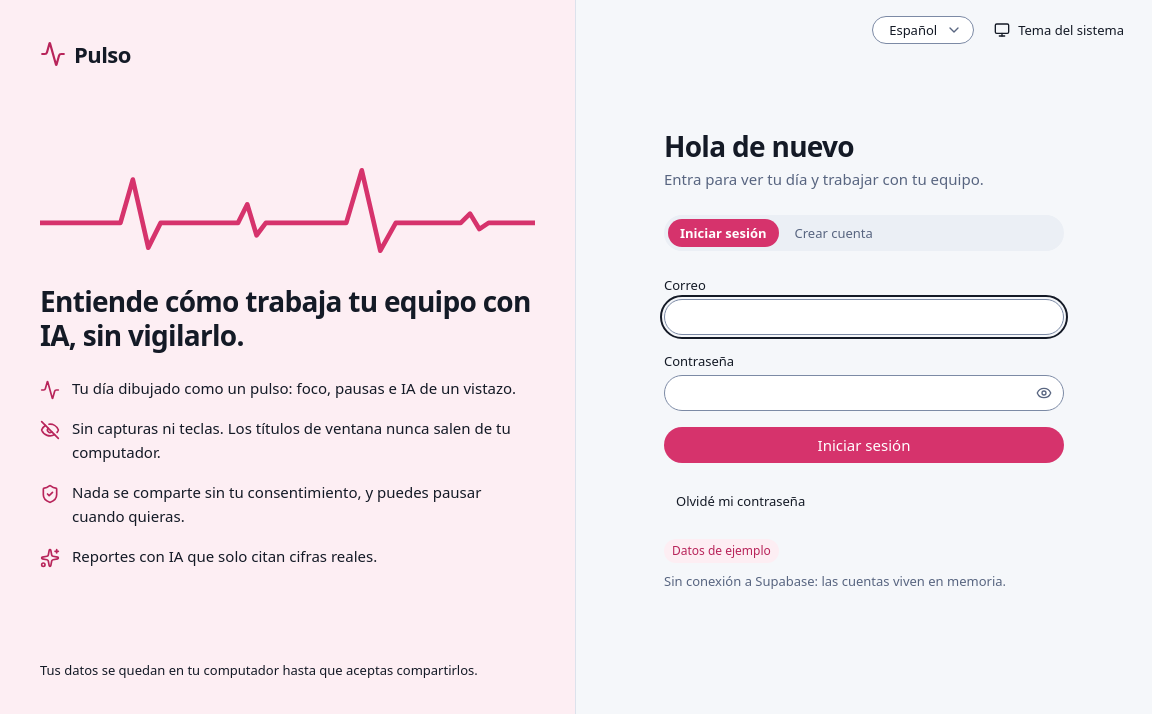
Scenario: Acceso (CU-01 a CU-03) › si el servidor no responde al registrarse, explica qué pasó y qué hacer (HTTP 504)
Click the radio button labelled "Crear cuenta" at (834, 233), box [782, 219, 885, 247]
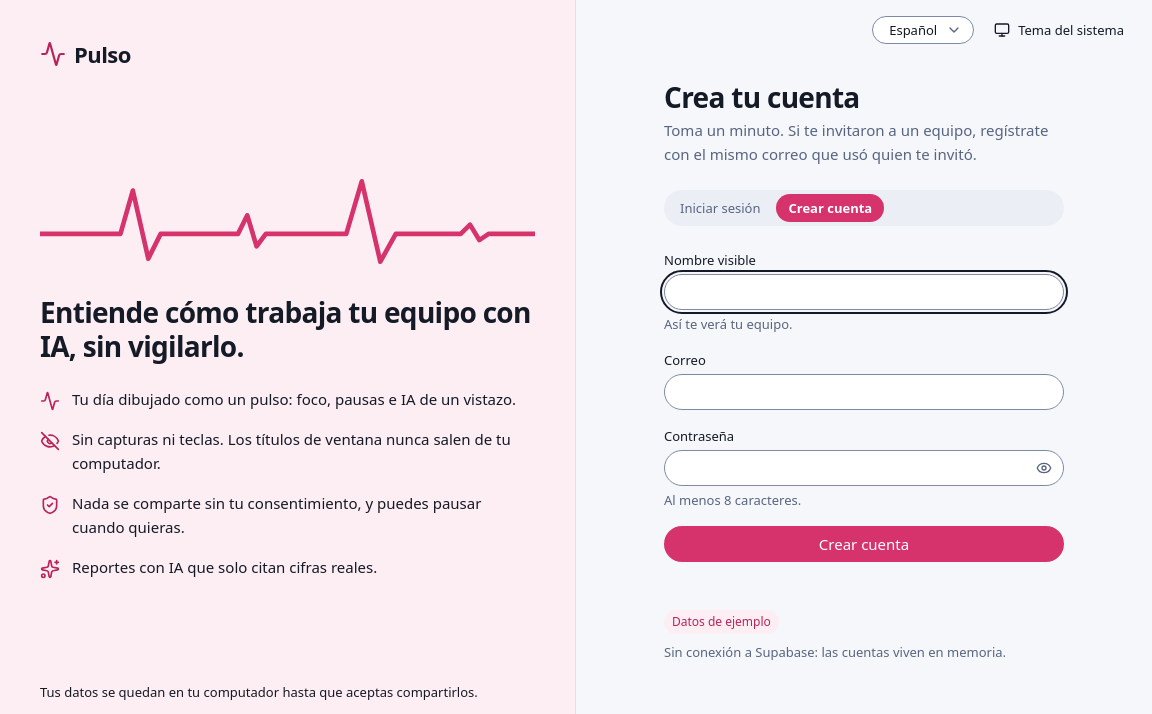
Type "Caro" into the field labelled "Nombre visible" at (864, 292), box [664, 274, 1064, 310]
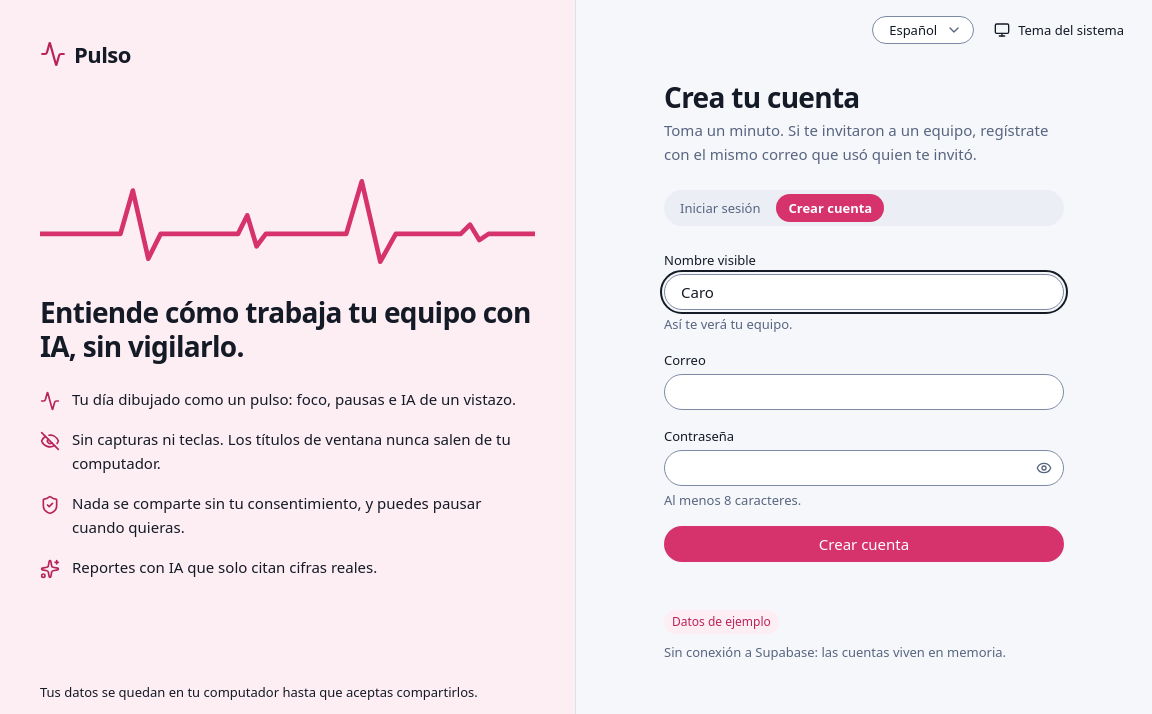
Type "caro@pulso.test" into the field labelled "Correo" at (864, 392), box [664, 374, 1064, 410]
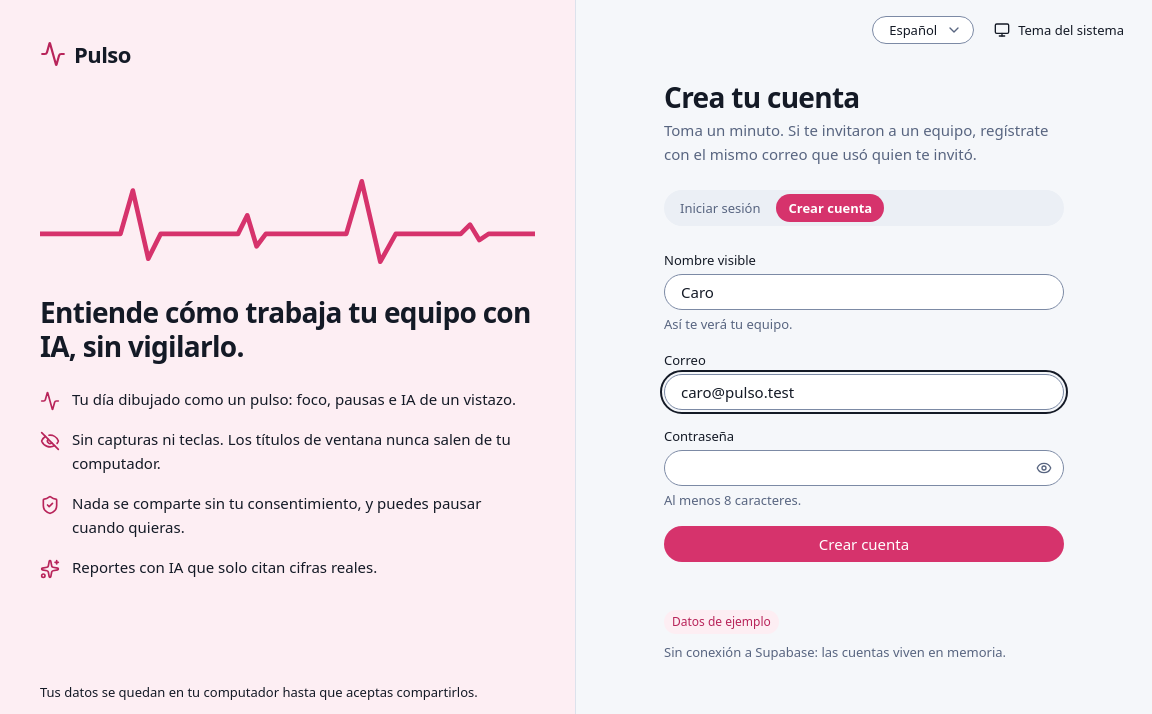
Type "secreto-123" into the password field labelled "Contraseña" at (864, 468), box [664, 450, 1064, 486]
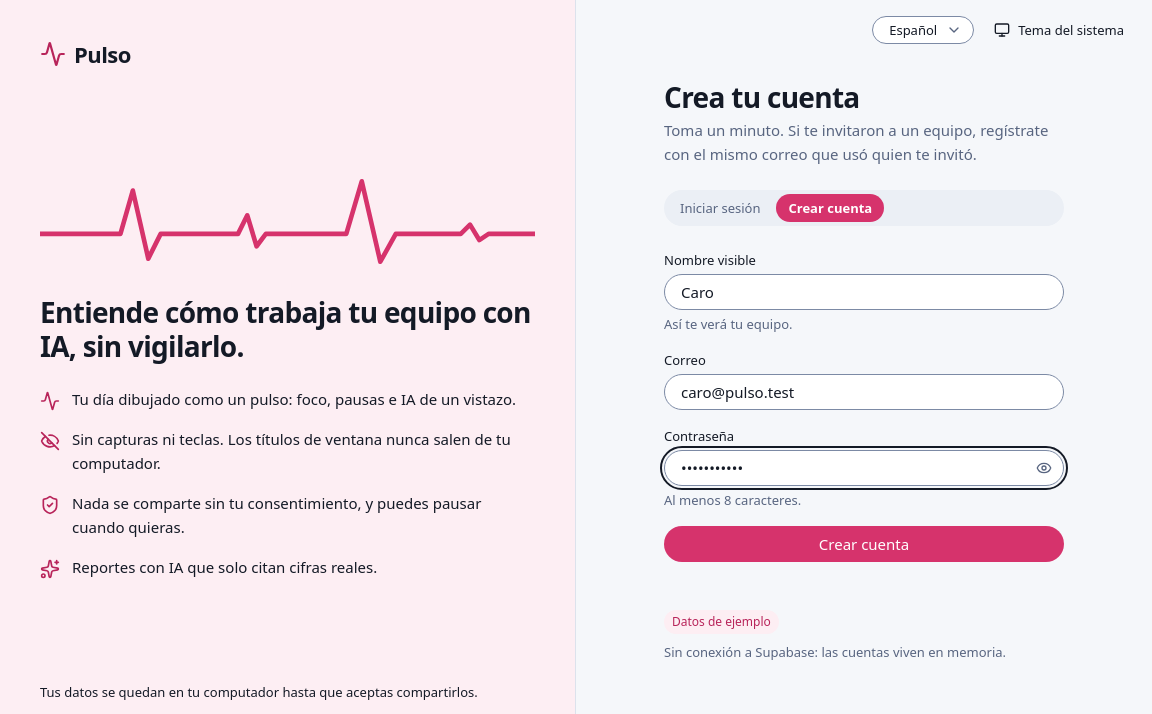
Click the button "Crear cuenta" at (864, 544), box [664, 526, 1064, 562]
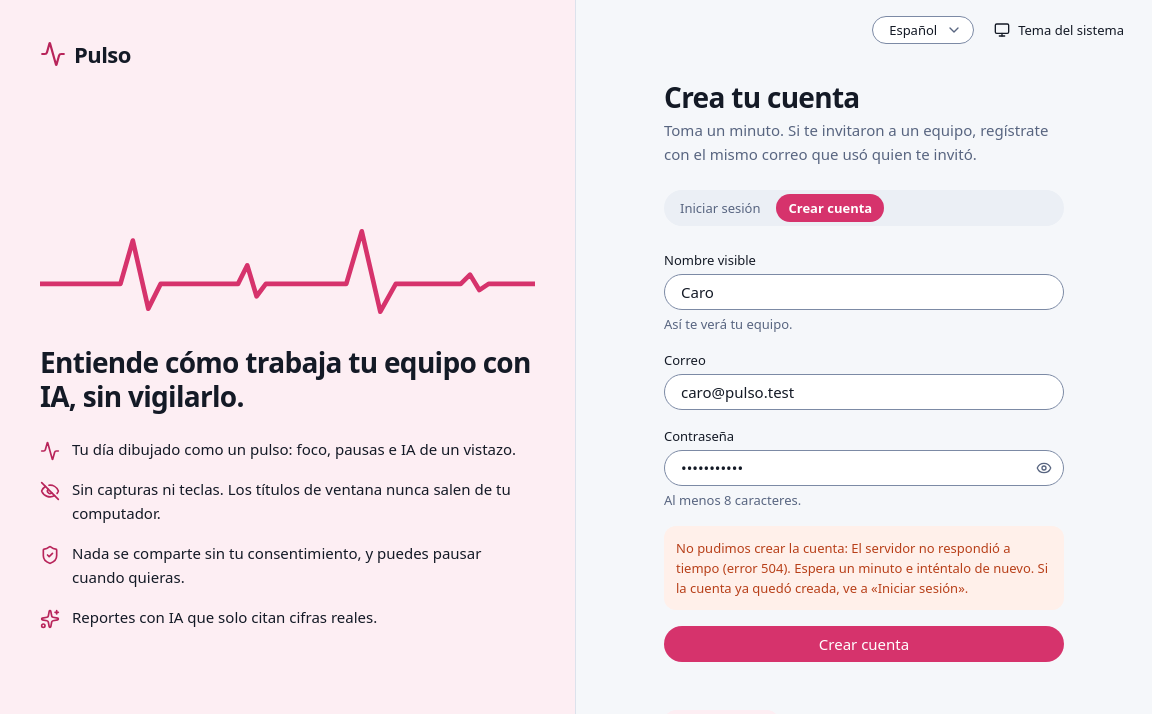
Expected: the message does not show "HTTP 504", [664, 526, 1064, 610]
Expected: the message shows "No pudimos crear la cuenta", [676, 539, 1048, 597]
Expected: the message shows "error 504", [676, 539, 1048, 597]
